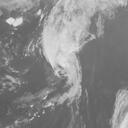cyclone: (37, 38, 86, 94)
